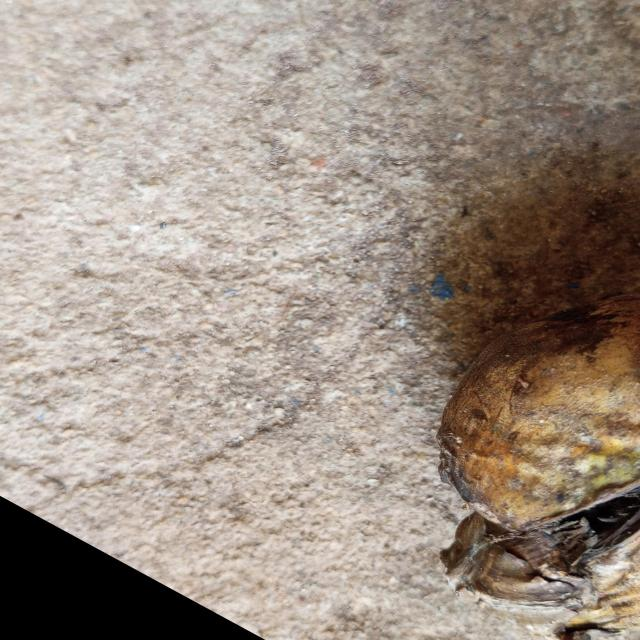damaged: (437, 296, 640, 640)
